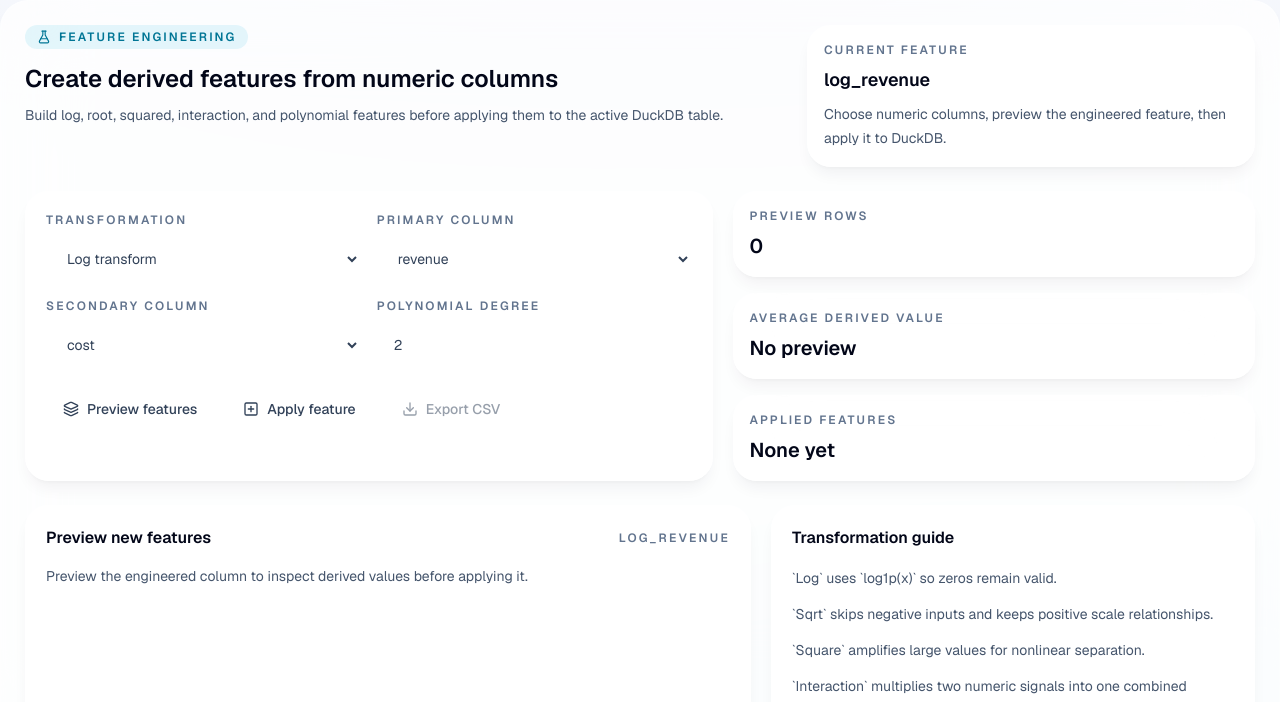
Test: FeatureEngineering › previews an interaction feature from selected numeric columns
The image size is (1280, 702).
Select "Interaction term" in the dropdown labelled "Transformation". click: (203, 259)
box: [46,236,361,282]
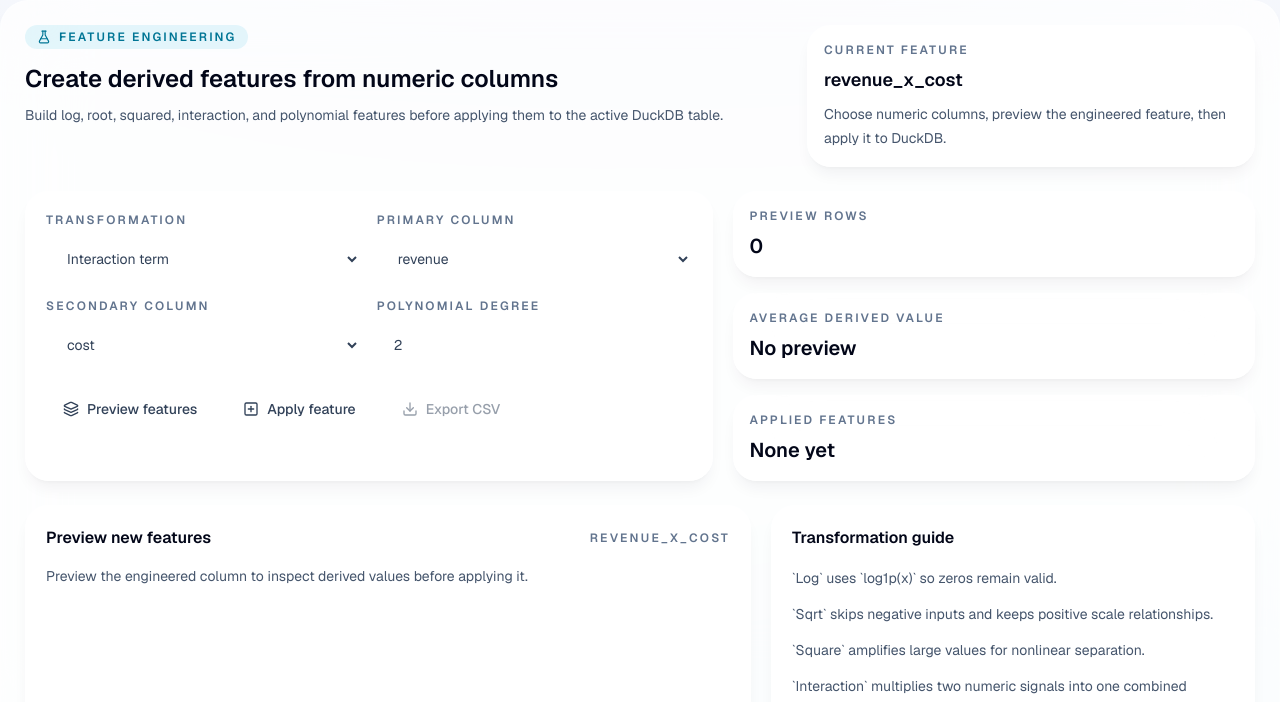
Select "cost" in the dropdown labelled "Secondary column". click: (203, 345)
box: [46,322,361,368]
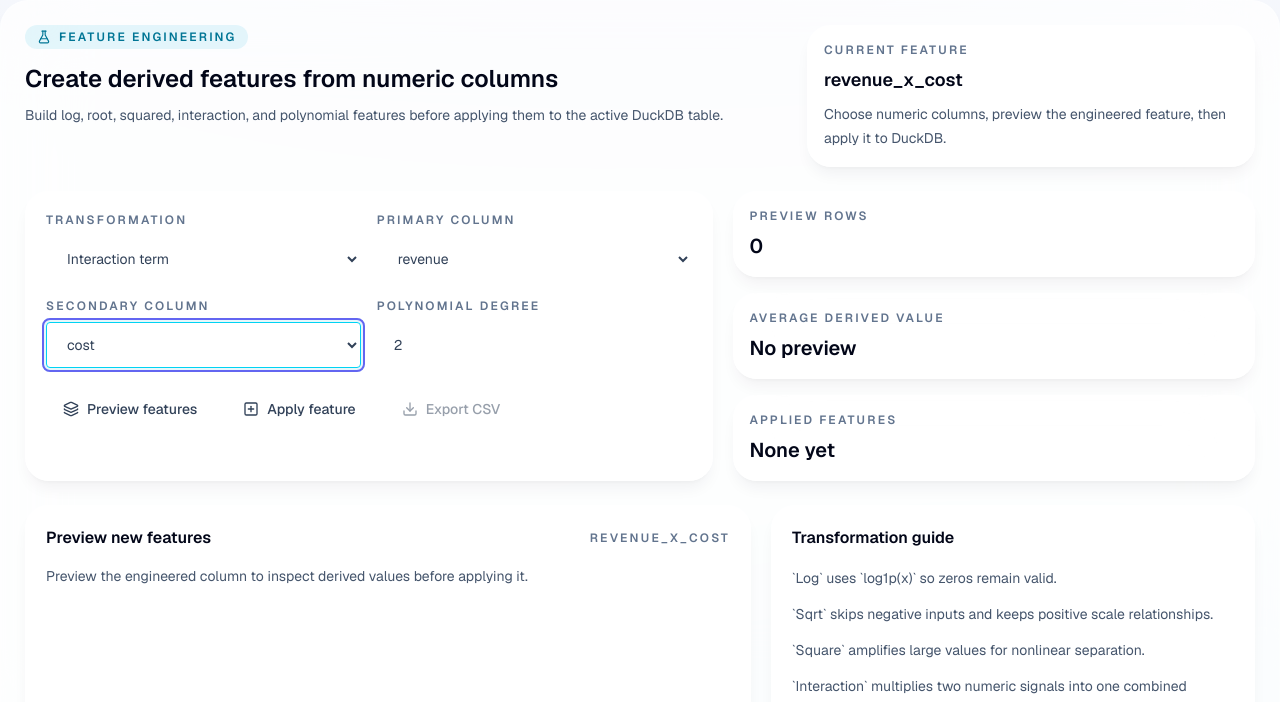
Click the button "Preview features". click: (130, 409)
box: [46,388,214,430]
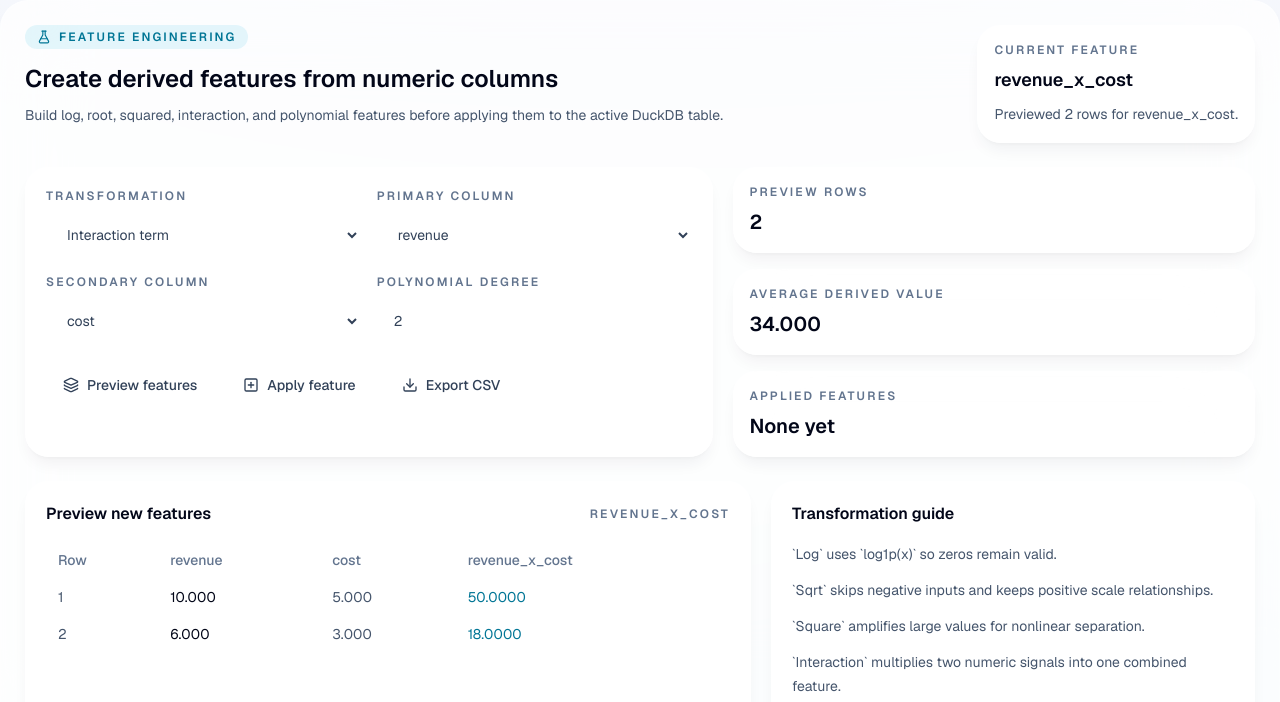
Now the text "Previewed 2 rows for revenue_x_cost." is shown, box [994,102,1238,126]
Now the text "50.0000" is shown, box [456,578,730,616]
Now the text "18.0000" is shown, box [456,616,730,652]
